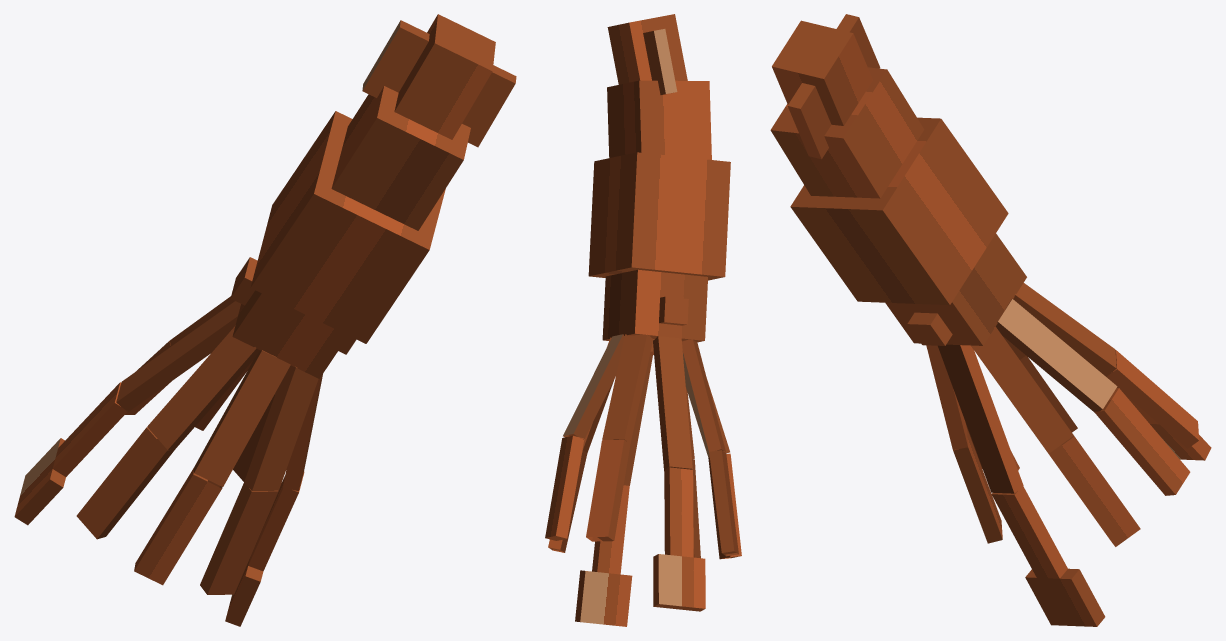
Rendered from Squid.fbx.
The picture shows the model from 3 angles, left to right: view 1: azimuth 30°, elevation 25°; view 2: azimuth 150°, elevation 25°; view 3: azimuth 270°, elevation 25°; orthographic projection. The views are drawn at different scales.
Parts seen in each view (by area): view 1: a321a42f-83bc-4e7f-073f-a918beaffe5f, 457022af-3c56-dc68-cee4-7b4da7636d71, cd80d76d-aa3f-1f3e-245a-381b87038968, 5b9757d7-fff7-d37e-a2f1-5ead1e934b2e, 7a971327-ebcc-5d42-c8da-a0c832f8d947, 0b7ab4d9-5034-7534-573e-f409ed8b75bb, a4a68bfc-0988-80a0-484c-77e8e0846979, e95b088d-8eff-b410-8d0a-57cbc7a088e0, b8f2019f-ddab-3d93-ca47-eb8586857e4d, 951e01b6-0c0b-40bc-bb88-2b0158ec1daa, 4cc01078-0153-f736-26f8-ccab34ec561c, dba2b7bf-ac07-2663-25dd-eb24465f94f4 (+8 smaller); view 2: a321a42f-83bc-4e7f-073f-a918beaffe5f, 457022af-3c56-dc68-cee4-7b4da7636d71, 5b9757d7-fff7-d37e-a2f1-5ead1e934b2e, 951e01b6-0c0b-40bc-bb88-2b0158ec1daa, cd80d76d-aa3f-1f3e-245a-381b87038968, 4ca36ded-b68b-01e0-77a1-0397b9ff3f96, 2781953c-a15f-c046-920f-a93a3132fc01, 07a27d64-014e-3f6f-a9cd-fa2abf3b4953, f4c29a69-bcd0-f613-ec1a-dce991502e78, fd991a45-e8c5-476a-9a9c-afb033e7dedf, 7d214d08-5dde-b793-9ecb-a2c402bdd30b, 3598dd63-e513-f643-2623-e4764bd1d716 (+11 smaller); view 3: a321a42f-83bc-4e7f-073f-a918beaffe5f, 457022af-3c56-dc68-cee4-7b4da7636d71, cd80d76d-aa3f-1f3e-245a-381b87038968, 5b9757d7-fff7-d37e-a2f1-5ead1e934b2e, d0018415-0bb0-31b1-5499-0f2b6f1b635d, 3598dd63-e513-f643-2623-e4764bd1d716, 49455527-f7e9-036f-3559-291993e20675, 7d214d08-5dde-b793-9ecb-a2c402bdd30b, 8496715f-0ca9-fcb7-818b-0c18795ca5f7, e76a85a4-4132-7e8b-a2b9-a1ba2288dde0, 2781953c-a15f-c046-920f-a93a3132fc01, f4c29a69-bcd0-f613-ec1a-dce991502e78 (+8 smaller).
Part boxes in pixels (x1,y1,x2,y2): a321a42f-83bc-4e7f-073f-a918beaffe5f: (250,111,445,343); 457022af-3c56-dc68-cee4-7b4da7636d71: (331,86,470,230); cd80d76d-aa3f-1f3e-245a-381b87038968: (394,14,495,139); 5b9757d7-fff7-d37e-a2f1-5ead1e934b2e: (232,290,348,378); 7a971327-ebcc-5d42-c8da-a0c832f8d947: (194,350,290,486); 0b7ab4d9-5034-7534-573e-f409ed8b75bb: (147,325,259,449); a4a68bfc-0988-80a0-484c-77e8e0846979: (244,365,318,490); e95b088d-8eff-b410-8d0a-57cbc7a088e0: (76,427,175,539); b8f2019f-ddab-3d93-ca47-eb8586857e4d: (134,468,222,585); 951e01b6-0c0b-40bc-bb88-2b0158ec1daa: (116,301,240,411); 4cc01078-0153-f736-26f8-ccab34ec561c: (200,482,278,594); dba2b7bf-ac07-2663-25dd-eb24465f94f4: (362,20,429,97); a321a42f-83bc-4e7f-073f-a918beaffe5f: (588,152,730,280); 457022af-3c56-dc68-cee4-7b4da7636d71: (607,80,711,159); 5b9757d7-fff7-d37e-a2f1-5ead1e934b2e: (602,269,707,342); 951e01b6-0c0b-40bc-bb88-2b0158ec1daa: (653,336,692,470); cd80d76d-aa3f-1f3e-245a-381b87038968: (607,14,687,84); 4ca36ded-b68b-01e0-77a1-0397b9ff3f96: (602,334,653,443); 2781953c-a15f-c046-920f-a93a3132fc01: (586,439,630,541); 07a27d64-014e-3f6f-a9cd-fa2abf3b4953: (653,554,705,611); f4c29a69-bcd0-f613-ec1a-dce991502e78: (575,570,632,626); fd991a45-e8c5-476a-9a9c-afb033e7dedf: (664,467,693,557); 7d214d08-5dde-b793-9ecb-a2c402bdd30b: (545,435,584,540); 3598dd63-e513-f643-2623-e4764bd1d716: (563,334,624,439); a321a42f-83bc-4e7f-073f-a918beaffe5f: (790,117,1008,305); 457022af-3c56-dc68-cee4-7b4da7636d71: (770,67,924,198); cd80d76d-aa3f-1f3e-245a-381b87038968: (772,20,872,125); 5b9757d7-fff7-d37e-a2f1-5ead1e934b2e: (885,233,1026,345); d0018415-0bb0-31b1-5499-0f2b6f1b635d: (938,344,1023,493); 3598dd63-e513-f643-2623-e4764bd1d716: (996,299,1117,412); 49455527-f7e9-036f-3559-291993e20675: (971,326,1073,453); 7d214d08-5dde-b793-9ecb-a2c402bdd30b: (1094,388,1190,495); 8496715f-0ca9-fcb7-818b-0c18795ca5f7: (1048,436,1140,546); e76a85a4-4132-7e8b-a2b9-a1ba2288dde0: (991,486,1067,578); 2781953c-a15f-c046-920f-a93a3132fc01: (1106,350,1199,448); f4c29a69-bcd0-f613-ec1a-dce991502e78: (1025,568,1105,626).
Size of the model in its own units: 1.38 by 2.81 by 1.77.
1 material, 1 textured.
